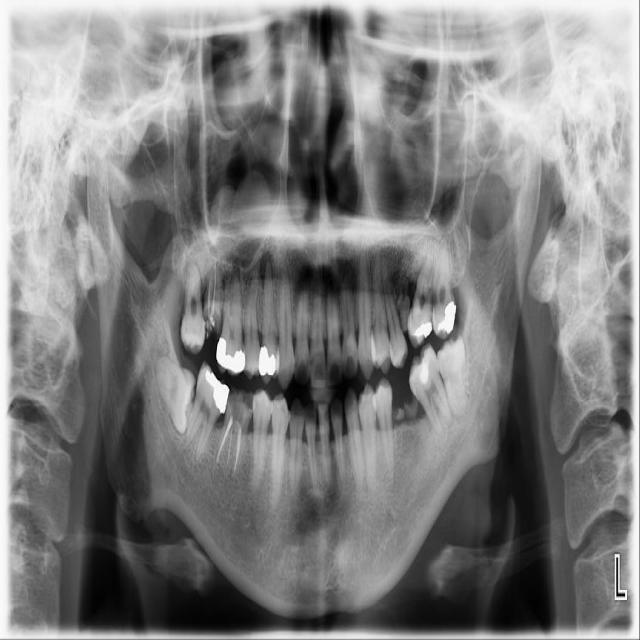Filling: (198, 360, 229, 419), (215, 335, 245, 376), (432, 298, 456, 339), (258, 343, 280, 384), (224, 392, 252, 424), (408, 352, 430, 389), (407, 318, 433, 343)
Root Canal Treatment: (217, 416, 233, 459), (232, 429, 241, 473)
Root Piece: (208, 258, 222, 333), (204, 277, 215, 338), (210, 287, 224, 332), (397, 292, 409, 331), (405, 397, 419, 418), (394, 407, 406, 422)
impacted tooth: (155, 358, 194, 434), (435, 336, 470, 417)
